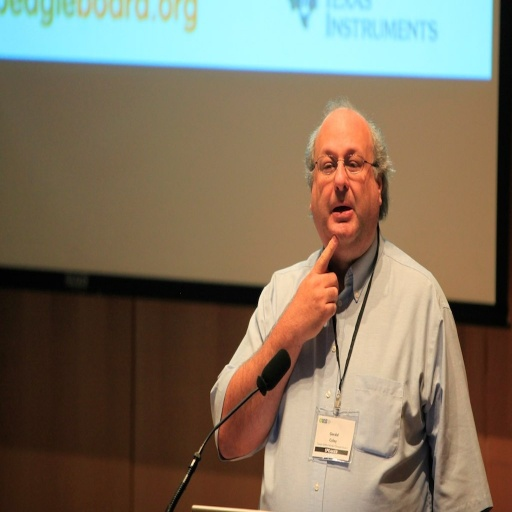hand: (253, 260, 348, 374)
